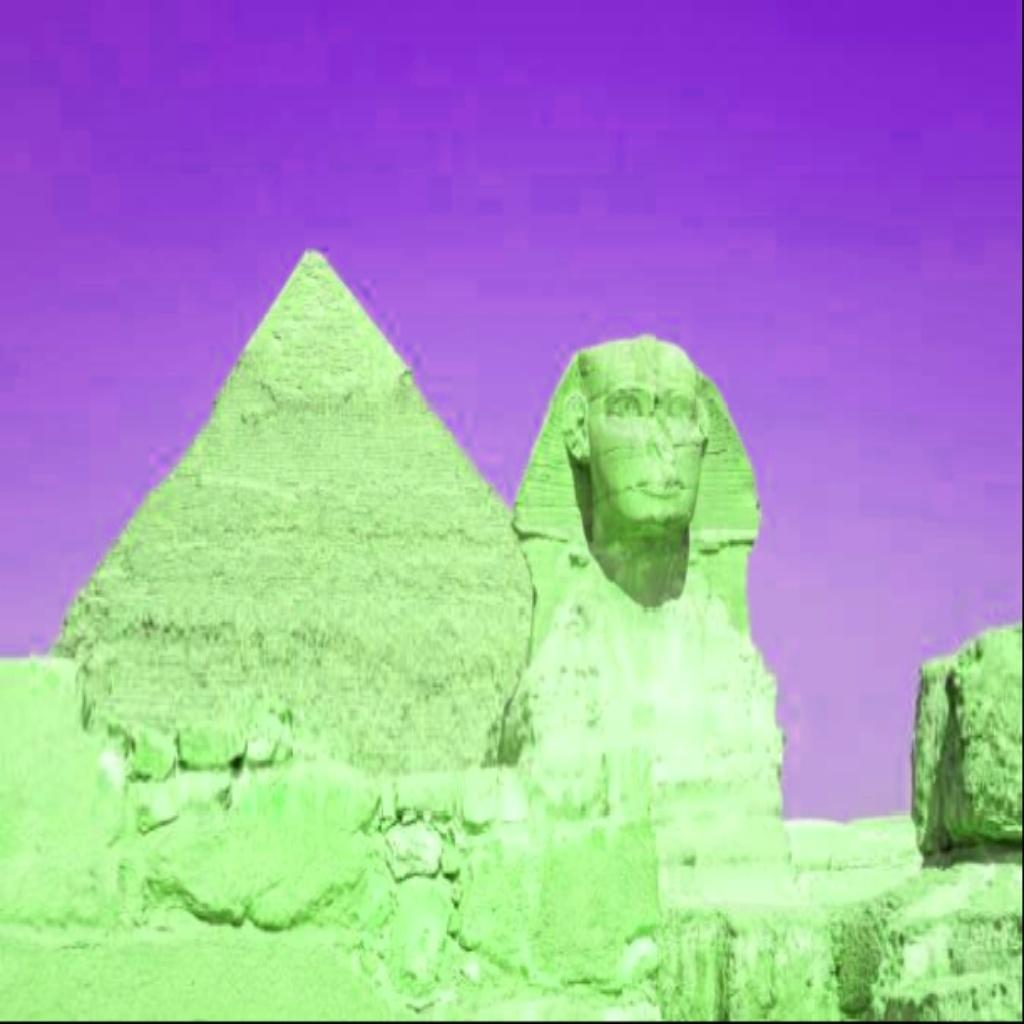Sphinx: (497, 332, 788, 826)
